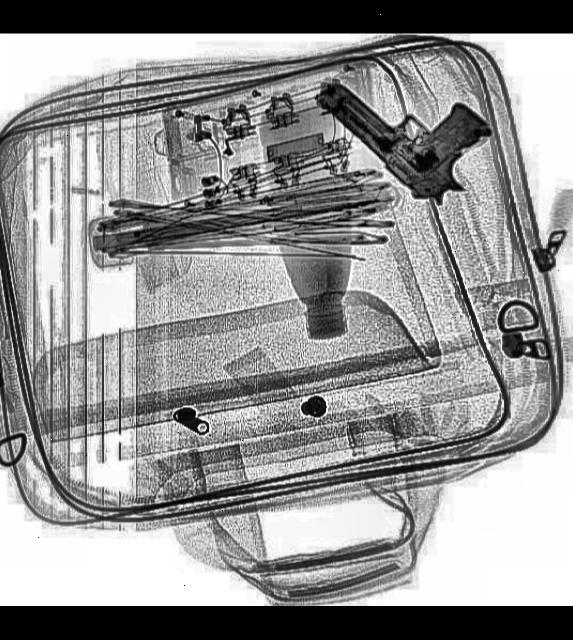Gun: (318, 34, 501, 212)
